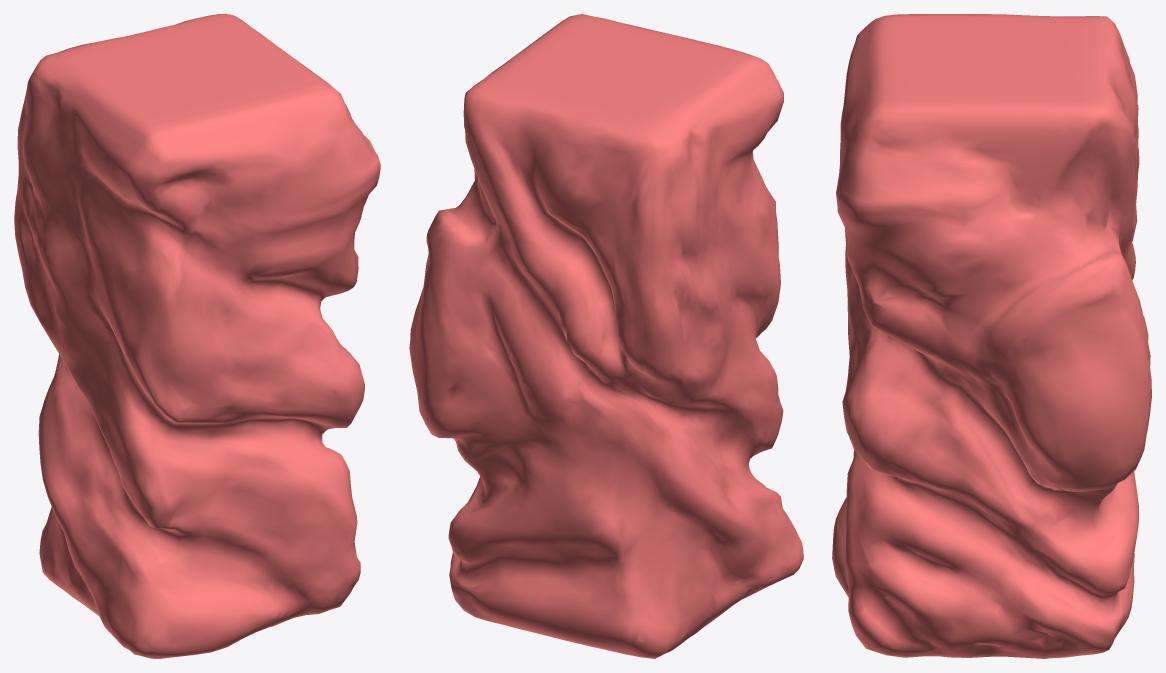
Rendered from Rock14.fbx.
3 views of the same model, side by side, from view 1: azimuth 30°, elevation 25°; view 2: azimuth 150°, elevation 25°; view 3: azimuth 270°, elevation 25° (orthographic). The views are drawn at different scales.
Parts seen in each view (by area): view 1: PM3D_Cube3D_1; view 2: PM3D_Cube3D_1; view 3: PM3D_Cube3D_1.
Boxes of the visible parts, x1,y1,x2,y2 form: PM3D_Cube3D_1: (14,14,380,658); PM3D_Cube3D_1: (409,14,803,658); PM3D_Cube3D_1: (832,14,1151,658).
Bounding box in the file's own units: 2.73 × 4.76 × 2.5.
